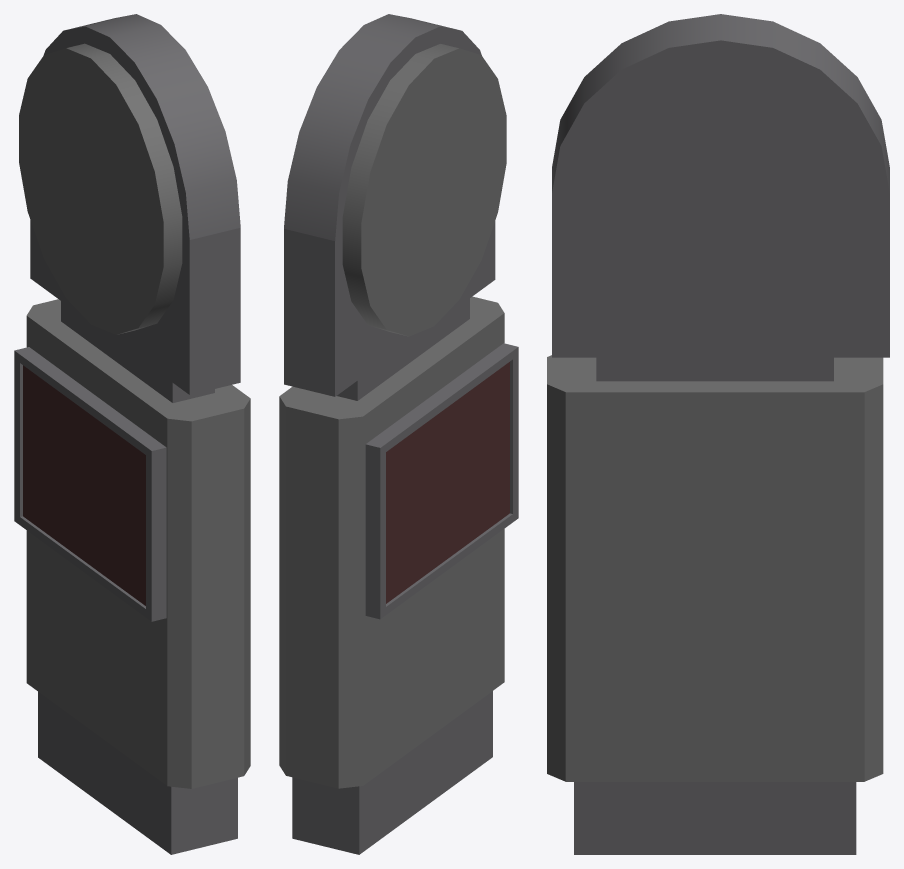
The model's file is parking_01.FBX.
3 renders of one model, left to right at view 1: azimuth 30°, elevation 25°; view 2: azimuth 150°, elevation 25°; view 3: azimuth 270°, elevation 25°, orthographic. The views are drawn at different scales.
Parts seen in each view (by area): view 1: parking_01; view 2: parking_01; view 3: parking_01.
Part boxes in pixels (x1,y1,x2,y2): parking_01: (14, 14, 250, 854); parking_01: (279, 14, 518, 854); parking_01: (547, 14, 889, 854).
Bounding box in the file's own units: 164 × 1221 × 468.
